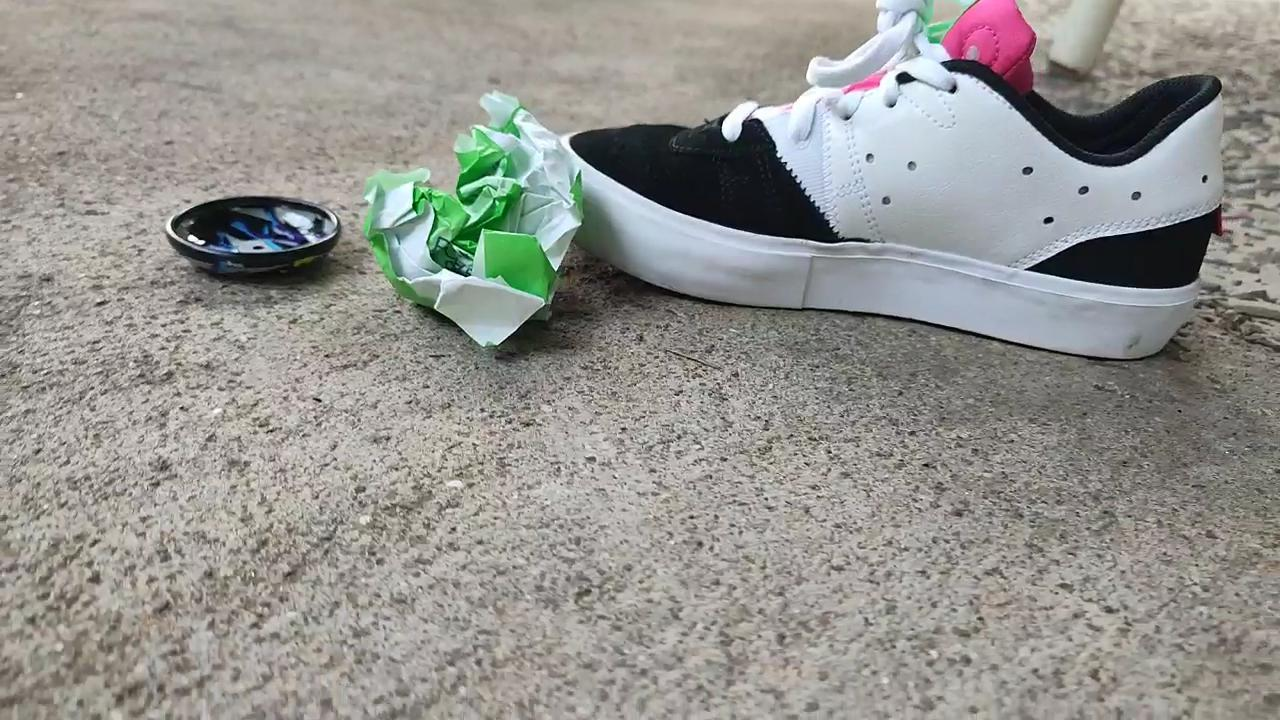Paper: (362, 88, 592, 364)
